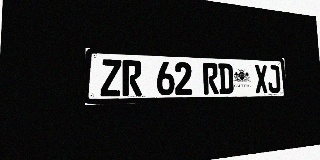2: (175, 62, 192, 95)
6: (156, 61, 175, 95)
D: (218, 63, 234, 94)
J: (267, 65, 281, 93)
R: (122, 60, 142, 96), (203, 63, 219, 94)
X: (254, 65, 268, 93)
Z: (100, 59, 121, 97)
